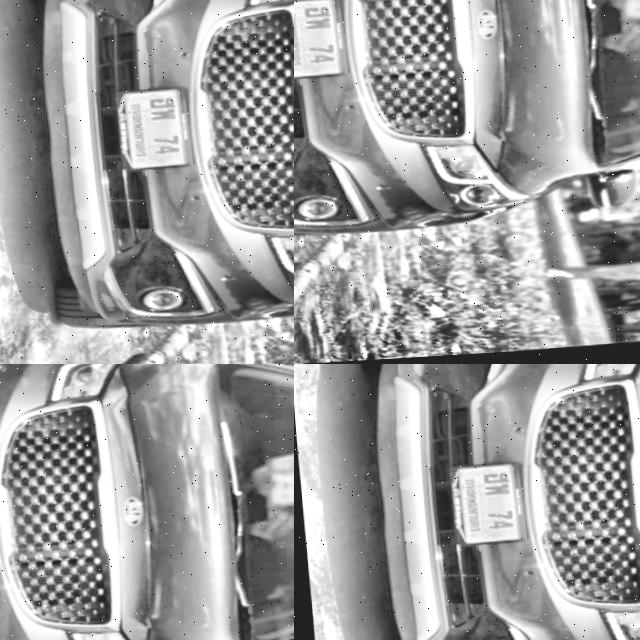license-plate: (345, 209, 432, 288), (440, 464, 518, 548), (0, 480, 42, 594)
